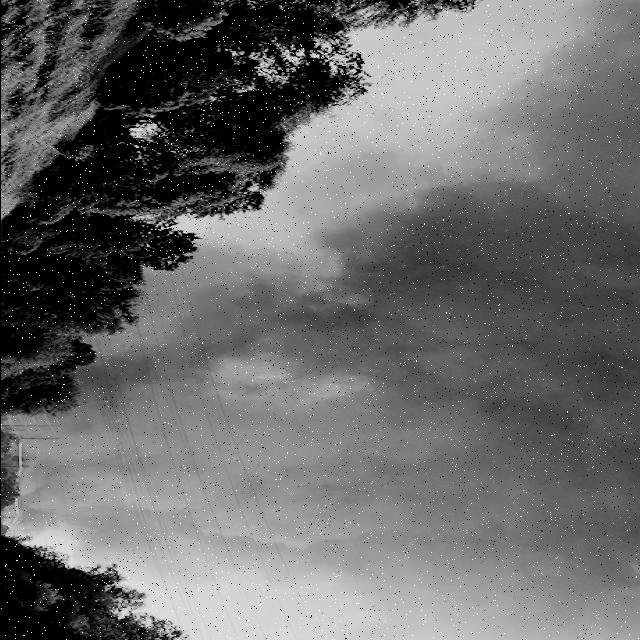asap: (438, 12, 633, 640), (188, 195, 430, 639), (2, 342, 178, 582), (366, 23, 442, 193), (292, 116, 406, 208), (135, 268, 217, 342)
